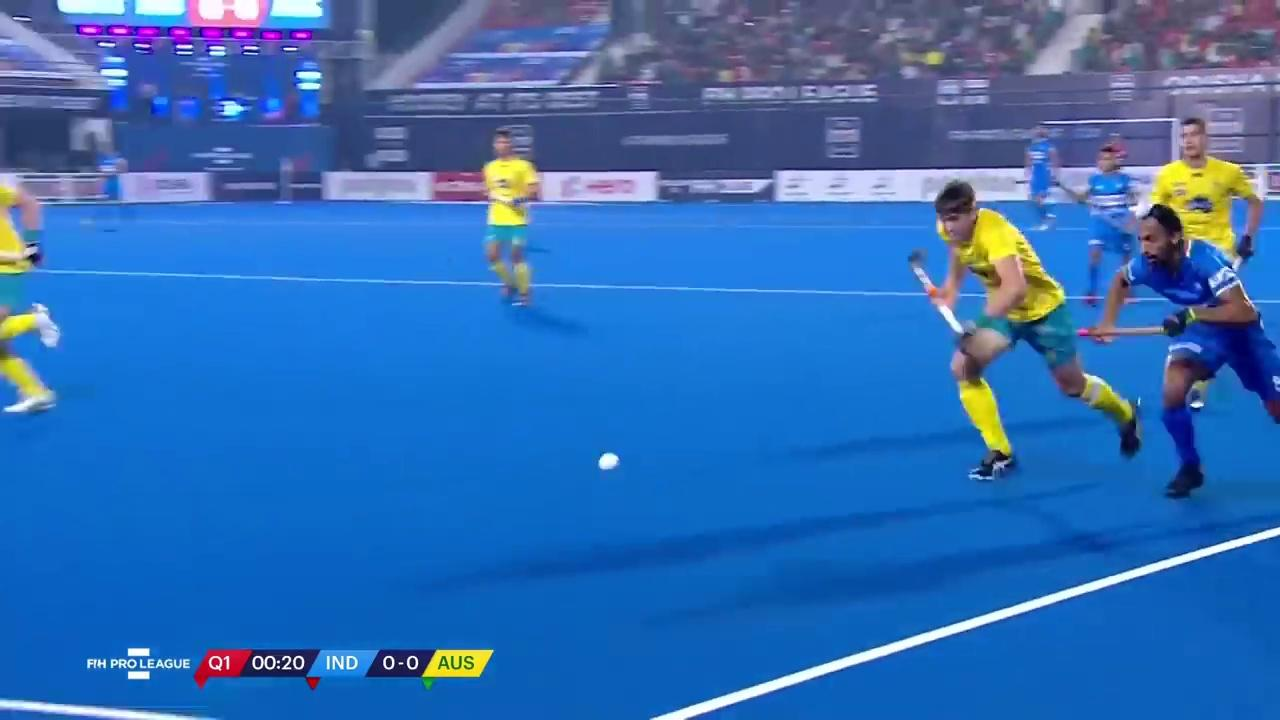ball: (587, 442, 632, 482)
